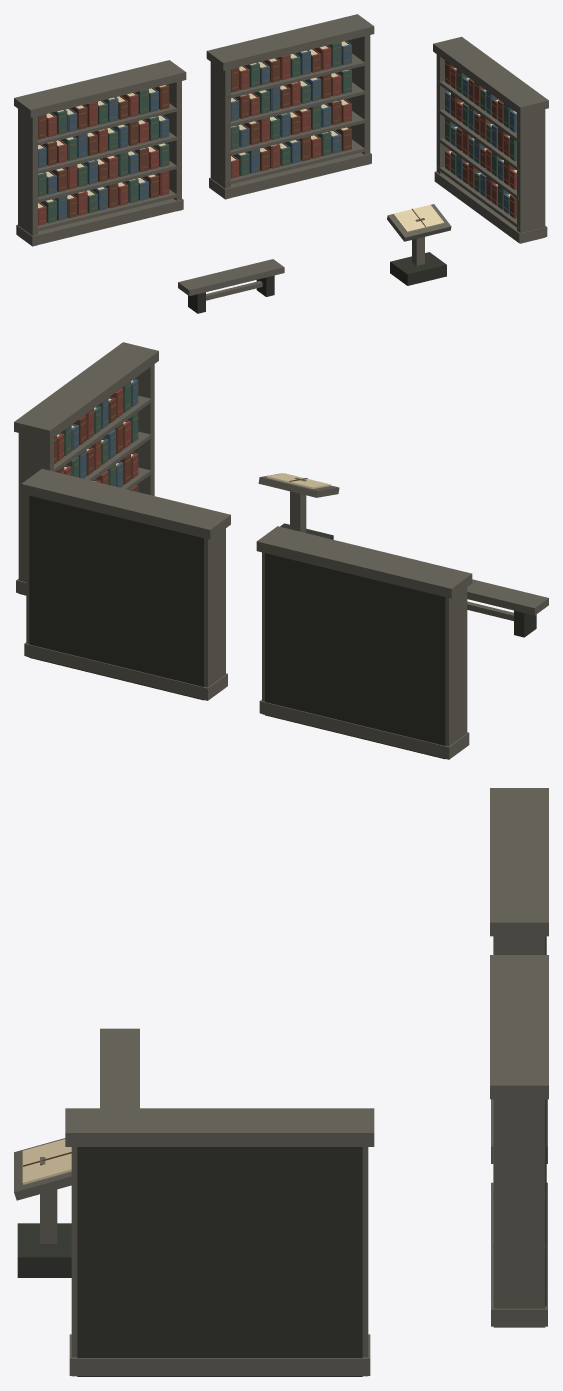
The model's file is village_library_artifacts.glb.
The picture shows the model from 3 angles, top to bottom: view 1: azimuth 30°, elevation 25°; view 2: azimuth 150°, elevation 25°; view 3: azimuth 270°, elevation 25°; orthographic projection. The views are drawn at different scales.
Parts seen in each view (by area): view 1: village_library_artifacts; view 2: village_library_artifacts; view 3: village_library_artifacts.
Boxes of the visible parts, <box> form: village_library_artifacts: <box>14,14,548,313</box>; village_library_artifacts: <box>14,342,548,759</box>; village_library_artifacts: <box>14,788,548,1376</box>.
Size of the model in its own units: 8.59 by 2.84 by 5.62.
